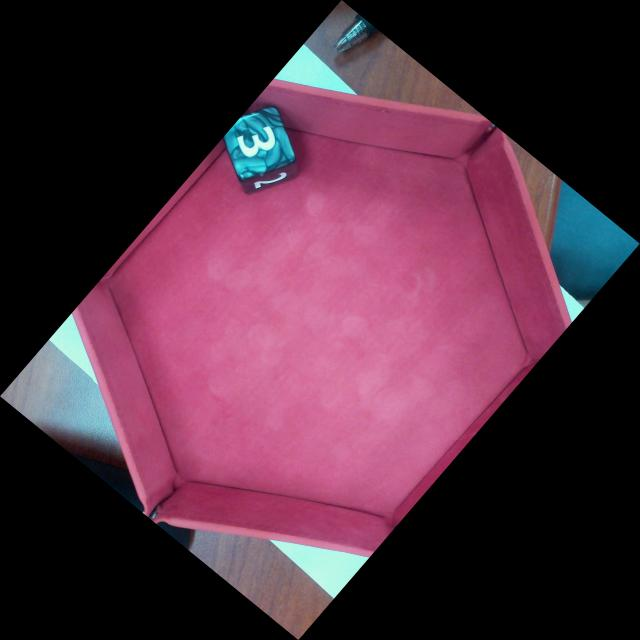dice: (229, 112, 292, 177)
